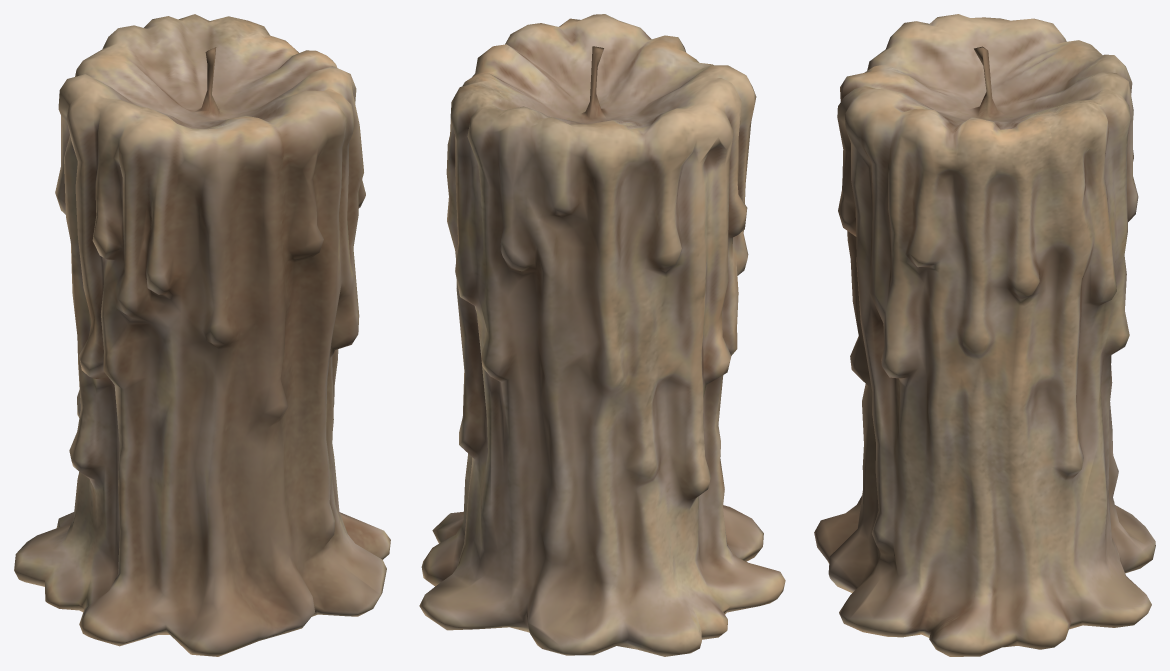
The model's file is SM_Candle_low_005.fbx.
The picture shows the model from 3 angles, left to right: view 1: azimuth 30°, elevation 25°; view 2: azimuth 150°, elevation 25°; view 3: azimuth 270°, elevation 25°; orthographic projection.
Visible parts, largest first — view 1: SM_Candle_low_005_LOD0; view 2: SM_Candle_low_005_LOD0; view 3: SM_Candle_low_005_LOD0.
Part boxes in pixels (bbox=[...]): SM_Candle_low_005_LOD0: bbox=[14, 14, 390, 656]; SM_Candle_low_005_LOD0: bbox=[419, 14, 785, 656]; SM_Candle_low_005_LOD0: bbox=[814, 14, 1155, 656].
Bounding box in the file's own units: 14.65 × 13.54 × 23.53.
